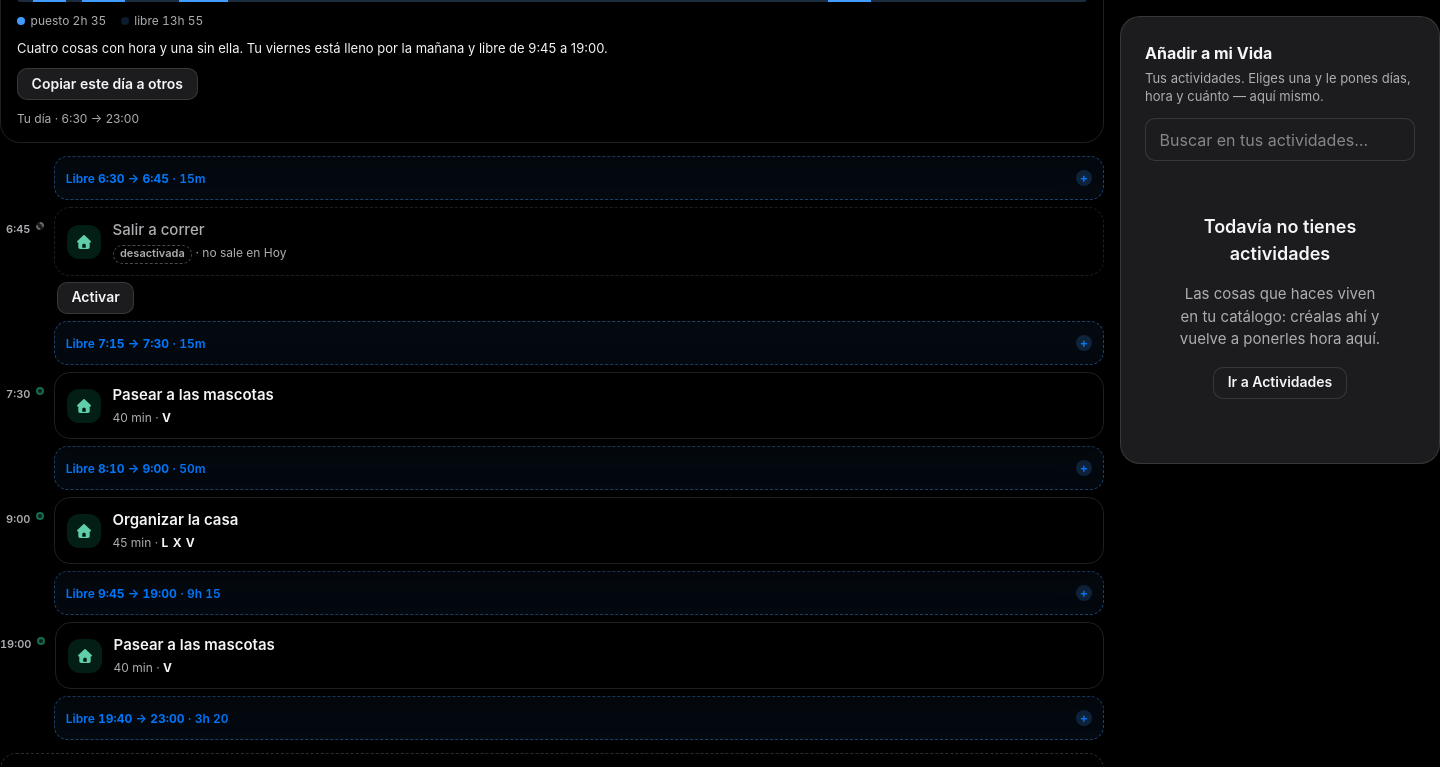
Test: la hoja del ítem y lo que escribe (criterios 16-27) › tocar una tarjeta abre la hoja **de ese ítem, por su id** (criterios 16 y 17)
(page scrolled)
Click the button with aria-label "Abrir Pasear a las mascotas" at (84,406), box [54,372,1104,439]
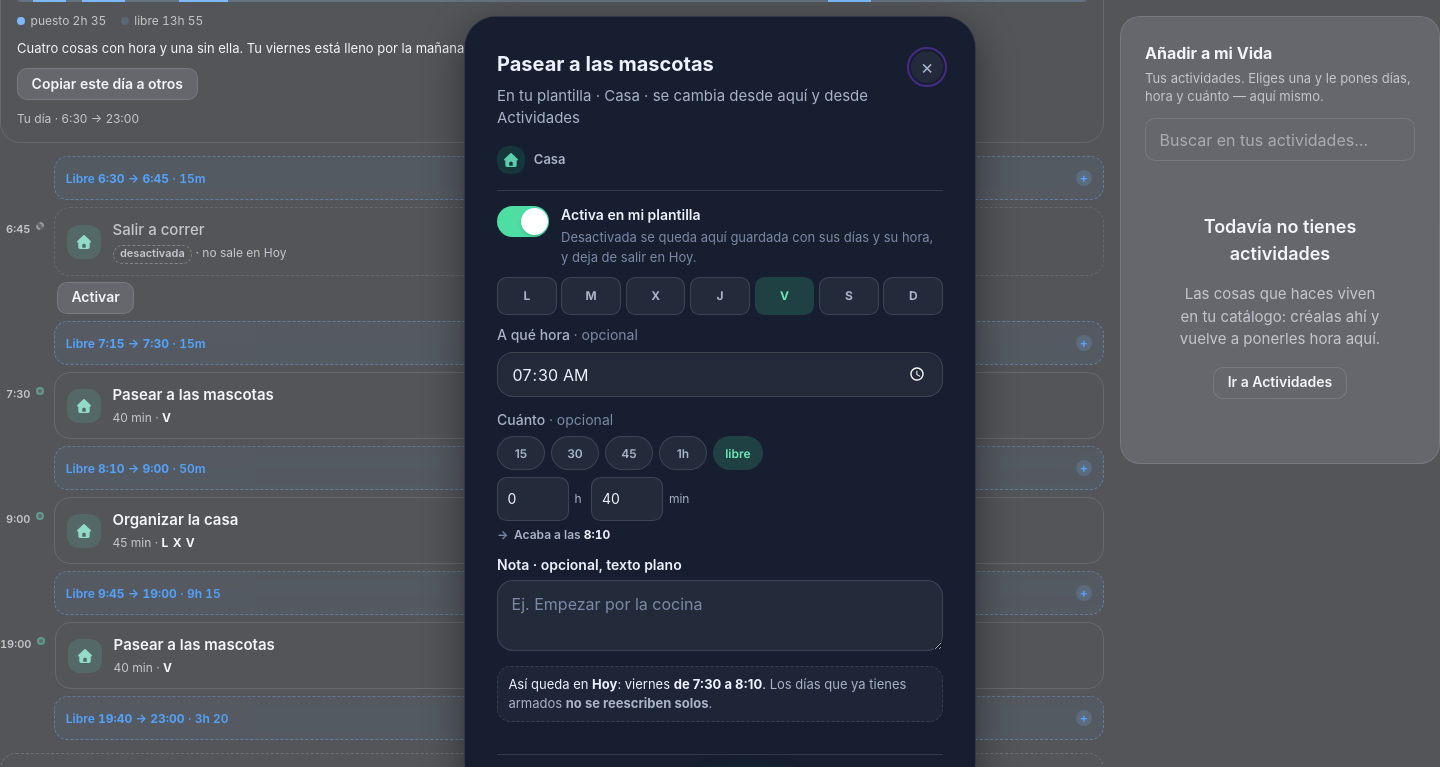
Expected: the heading "Pasear a las mascotas" is shown, [497,52,714,76]
Expected: the time field labelled "A qué hora · opcional" holds "07:30", [497,352,943,397]
